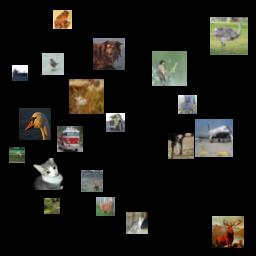airplane: (195, 119, 233, 157)
bird: (210, 17, 248, 55), (152, 51, 187, 86), (19, 108, 51, 140), (168, 133, 194, 159), (42, 53, 64, 75)
cat: (33, 158, 65, 190), (126, 212, 148, 234), (96, 197, 115, 216)
deer: (69, 79, 104, 114), (212, 216, 244, 248), (81, 170, 103, 192), (44, 198, 60, 214)
dog: (93, 38, 125, 70)
frog: (53, 10, 72, 29)
ship: (12, 65, 28, 81)
truck: (57, 126, 83, 152), (178, 95, 197, 114), (106, 113, 125, 132)
